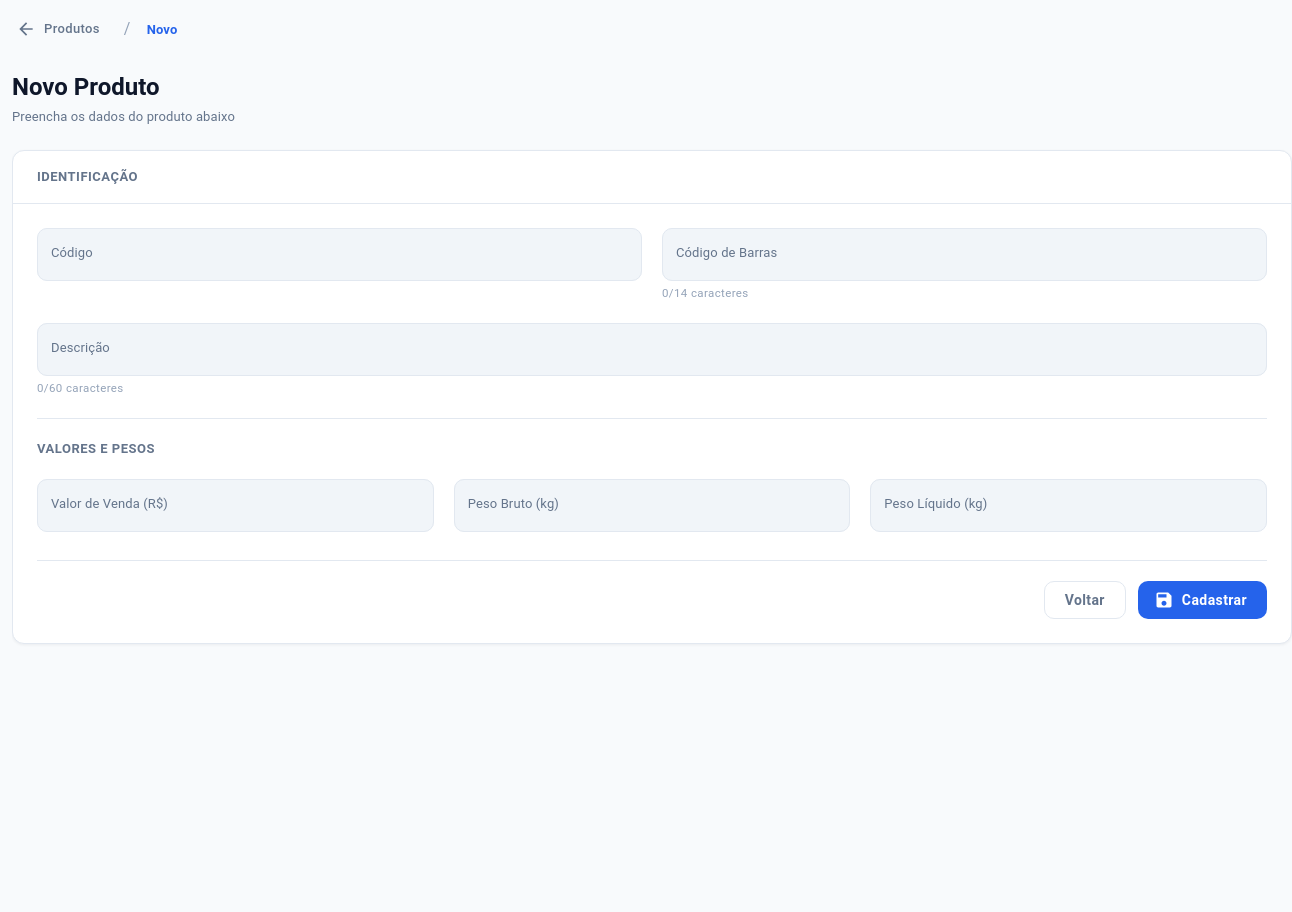
Test: ProdutoForm validation › shows validation errors when submitting empty form
What coordinates should you click on to do the following:
click the button "Cadastrar"
I would click on:
 (1202, 600)
Its box is [1138,581,1267,619].
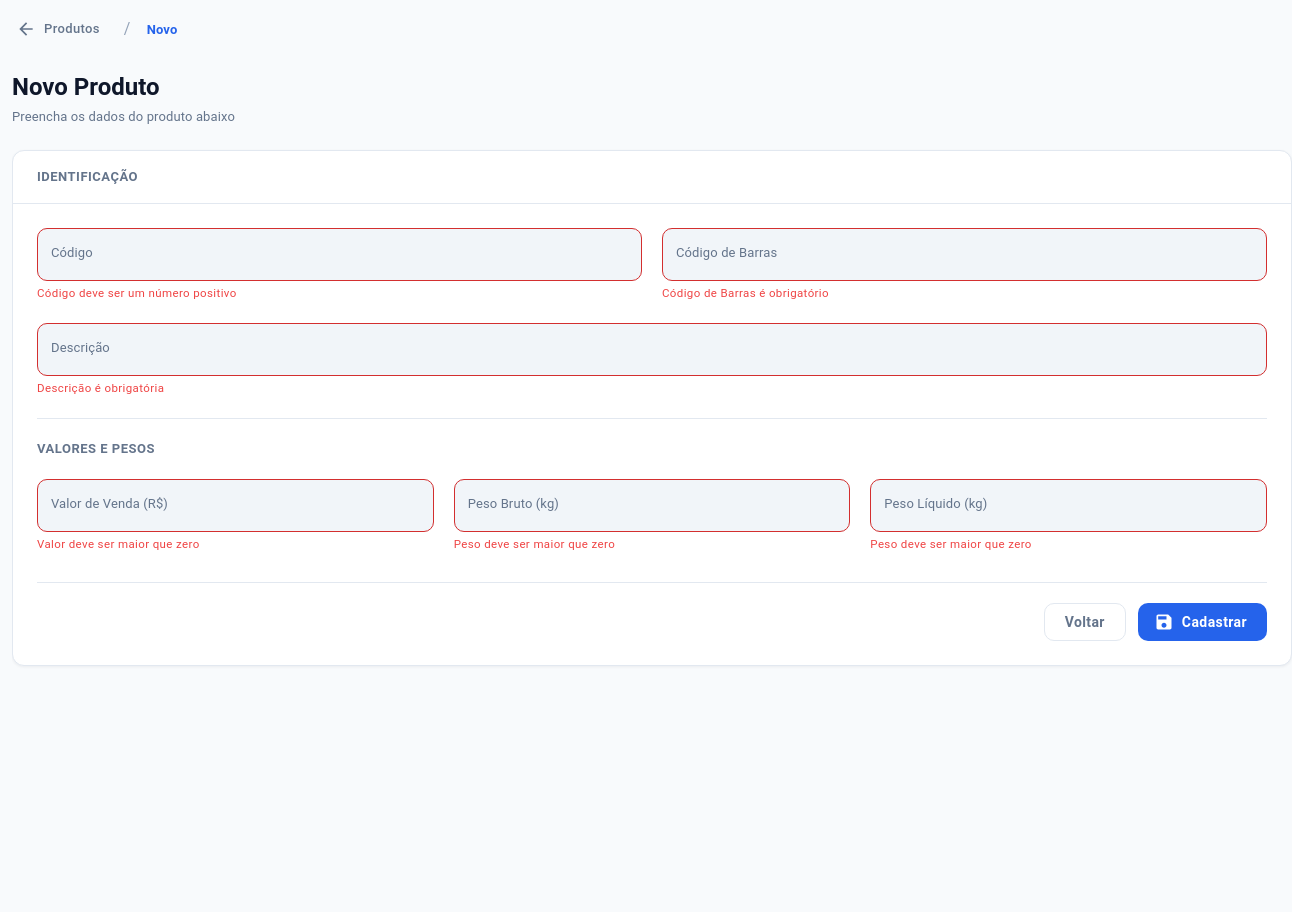
Check: the text "Código deve ser um número positivo" is shown, box [37,286,237,300]
Check: the text "Descrição é obrigatória" is shown, box [37,381,164,395]
Check: the text "Código de Barras é obrigatório" is shown, box [662,286,829,300]
